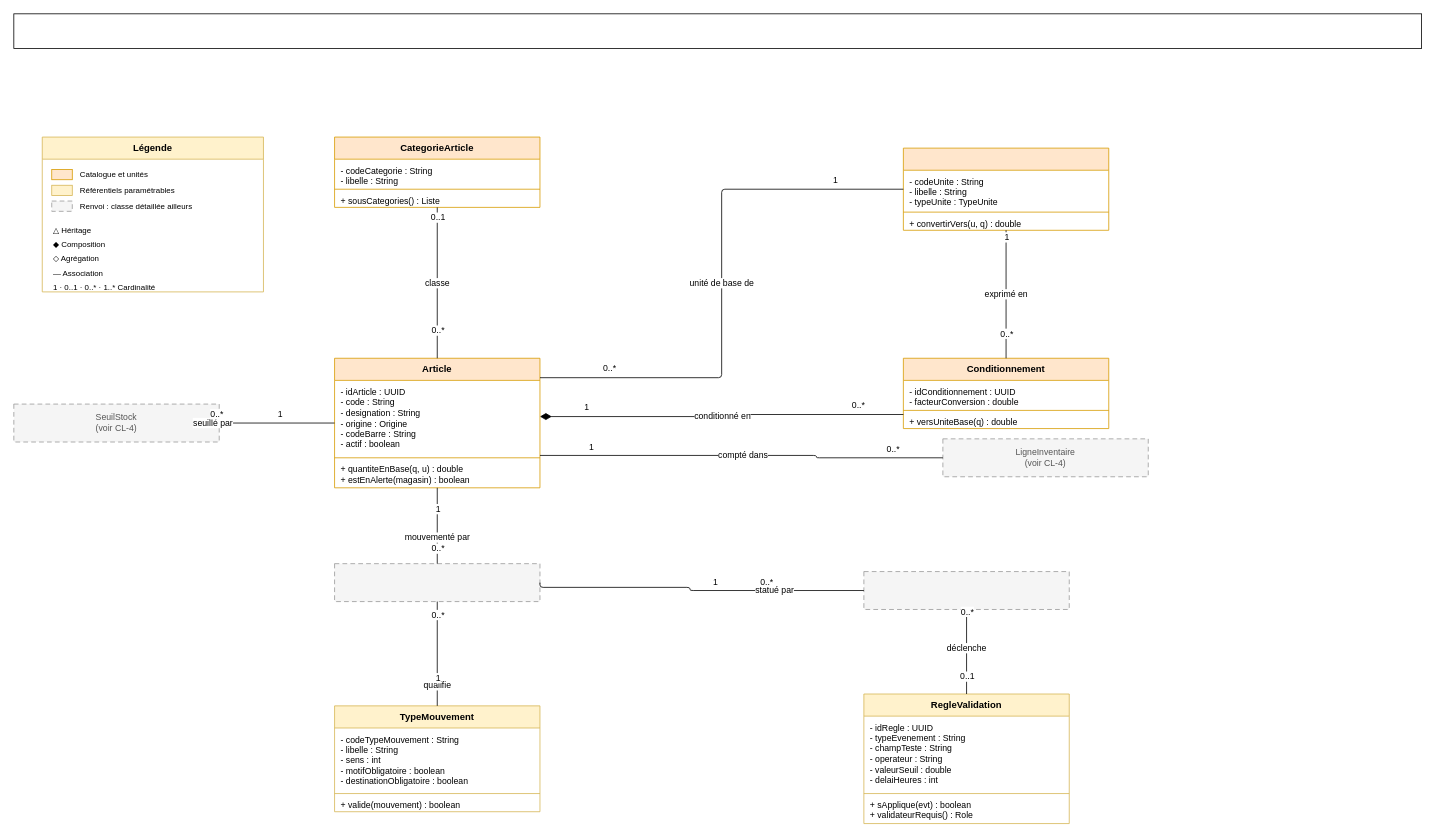
This 1435x837 diagram has some shape labels left out. Each missing label, with the box of its shape:
Diagramme de classes 3a — Catalogue des articles et consommation de stock: (13, 13, 1422, 49)
EvenementValidation (voir CL-4): (863, 571, 1069, 609)
MouvementStock (voir CL-4): (334, 563, 540, 602)
UniteMesure: (903, 147, 1109, 230)
